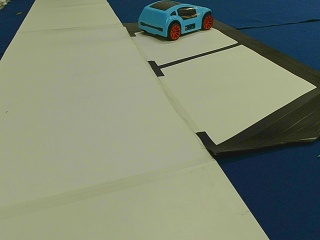car: (137, 2, 213, 40)
